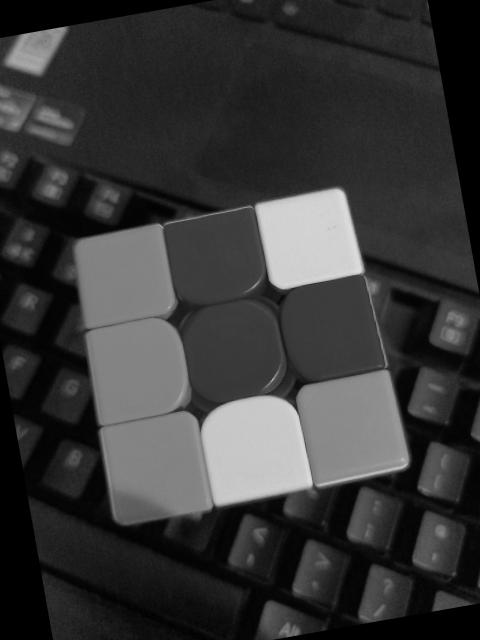rubik: (60, 181, 414, 529)
